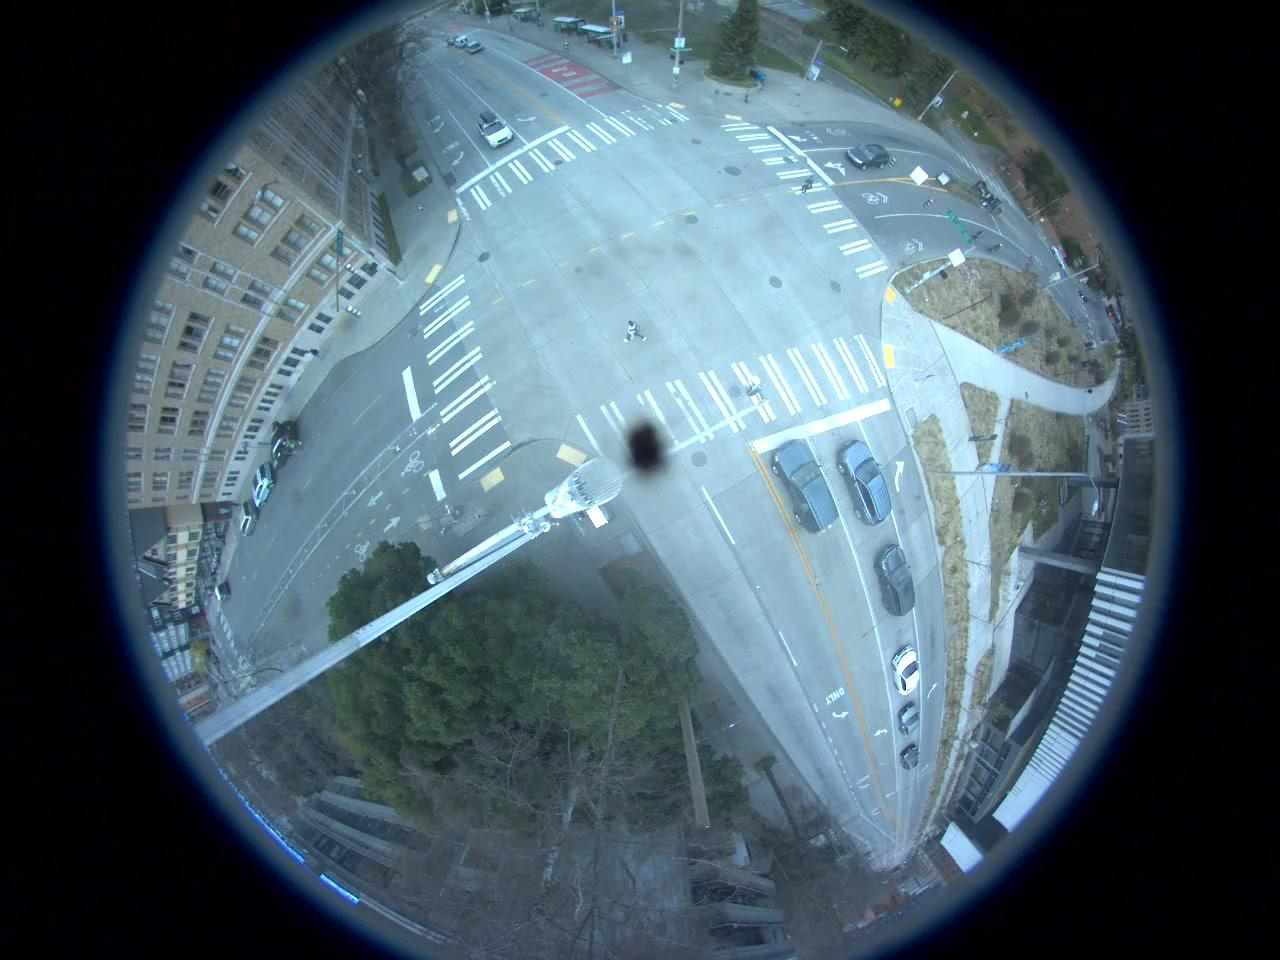car: (773, 438, 843, 530), (840, 433, 899, 526), (872, 544, 919, 614), (266, 417, 304, 468), (479, 106, 519, 150), (892, 643, 924, 695), (843, 141, 893, 171), (252, 462, 276, 514), (236, 499, 260, 539), (900, 700, 919, 736), (899, 742, 922, 770)
person: (620, 316, 648, 346), (801, 173, 817, 201), (306, 345, 325, 367)
